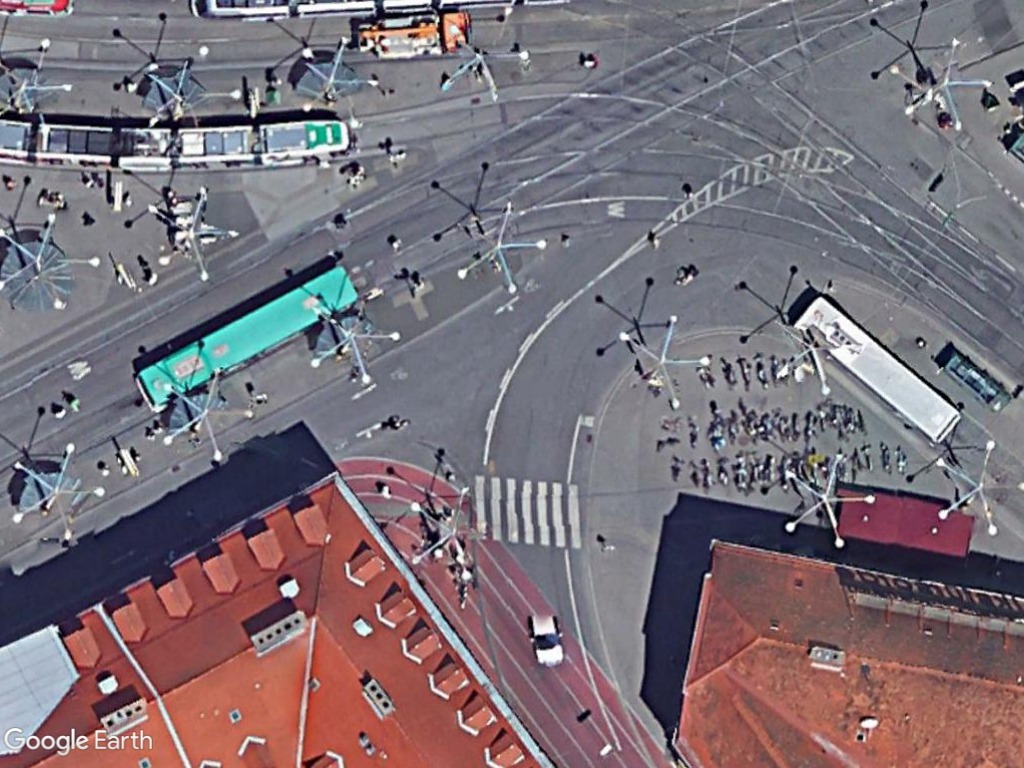bus: (131, 255, 359, 414), (783, 286, 970, 455)
